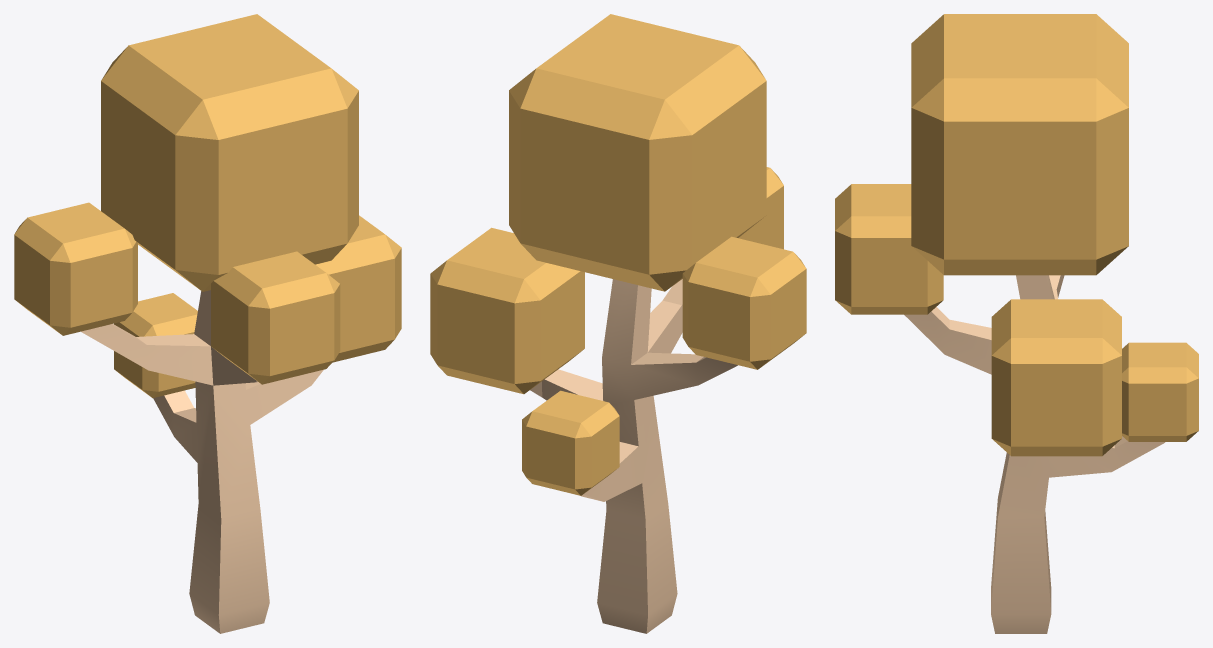
File: tree_detailed_fall.glb
The picture shows the model from 3 angles, left to right: view 1: azimuth 30°, elevation 25°; view 2: azimuth 150°, elevation 25°; view 3: azimuth 270°, elevation 25°; orthographic projection. The views are drawn at different scales.
Visible parts, largest first — view 1: tree_detailed_fall; view 2: tree_detailed_fall; view 3: tree_detailed_fall.
Boxes of the visible parts, left/top/right/bottom form: tree_detailed_fall: left=14, top=14, right=401, bottom=633; tree_detailed_fall: left=430, top=14, right=806, bottom=633; tree_detailed_fall: left=835, top=14, right=1198, bottom=633.
Size of the model in its own units: 0.8471 by 1.33 by 0.7616.
